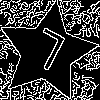L: (22, 27, 68, 81)
